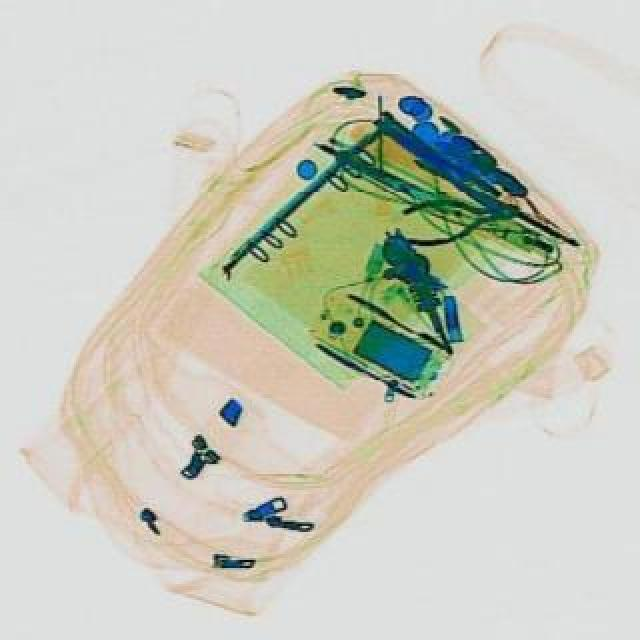wrench: (388, 184, 516, 248)
